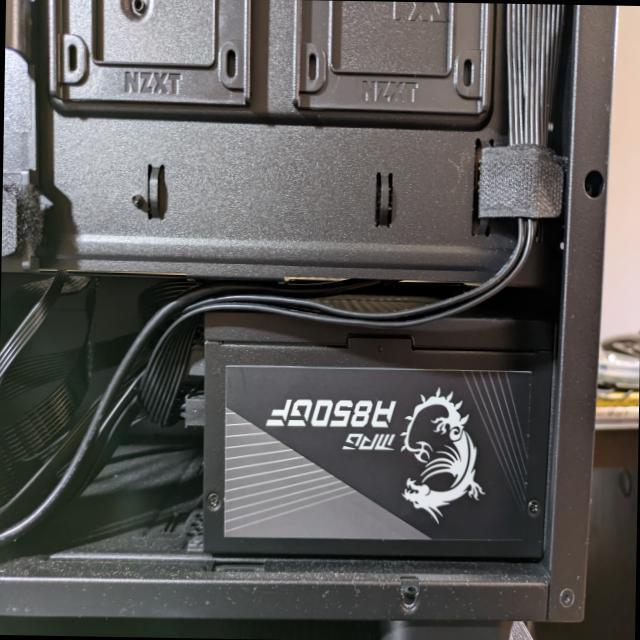PSU: (199, 288, 555, 563)
